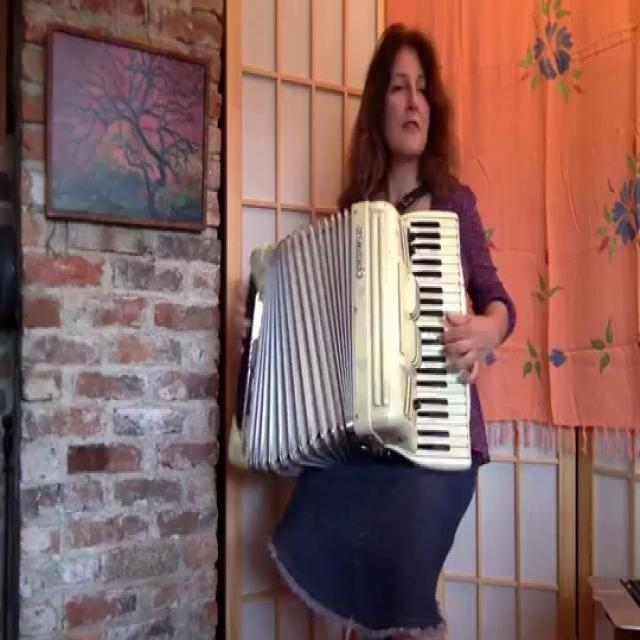Accordion: (247, 196, 475, 479)
